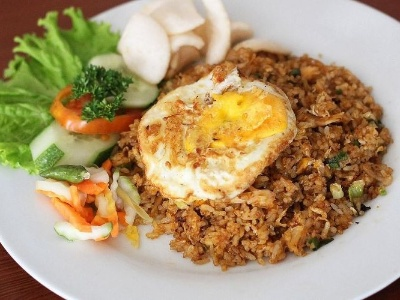nasigoreng: (136, 56, 382, 246)
